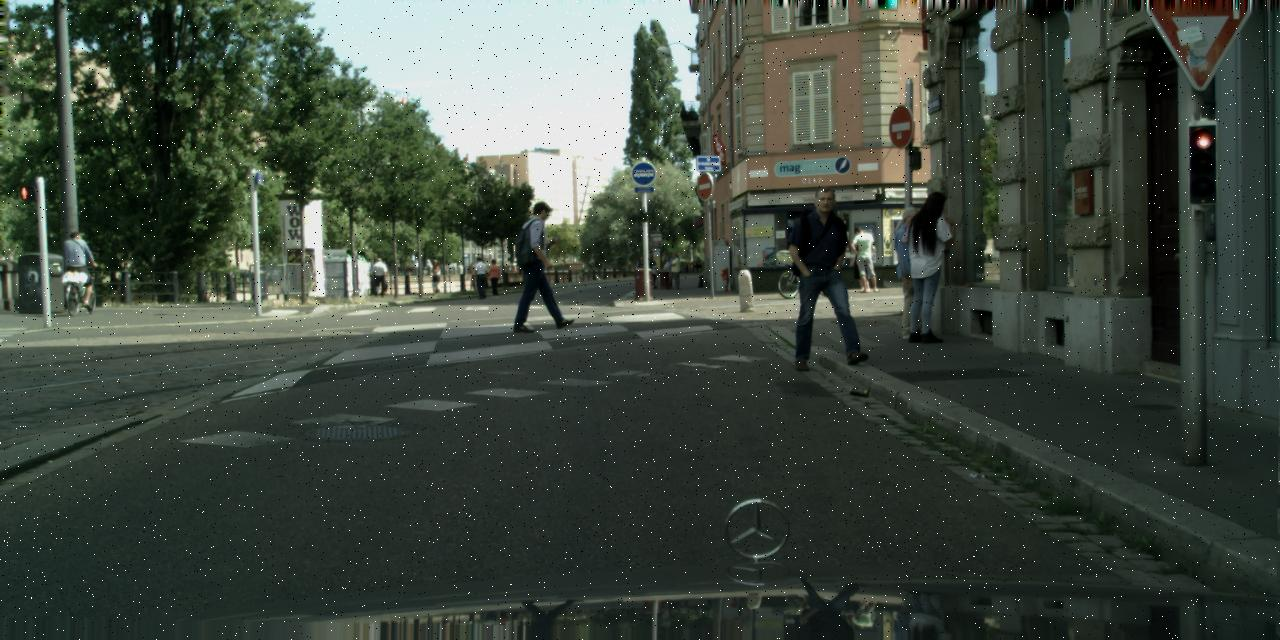ped: (790, 188, 864, 368), (902, 193, 962, 343), (888, 207, 940, 337), (518, 202, 570, 331), (62, 232, 92, 302), (850, 226, 877, 292), (851, 232, 875, 292), (472, 258, 488, 298), (370, 258, 386, 296), (486, 259, 501, 298), (668, 252, 683, 288), (428, 259, 442, 294), (664, 253, 678, 287), (636, 256, 648, 286), (661, 256, 672, 286), (648, 260, 658, 288), (692, 257, 702, 273)
